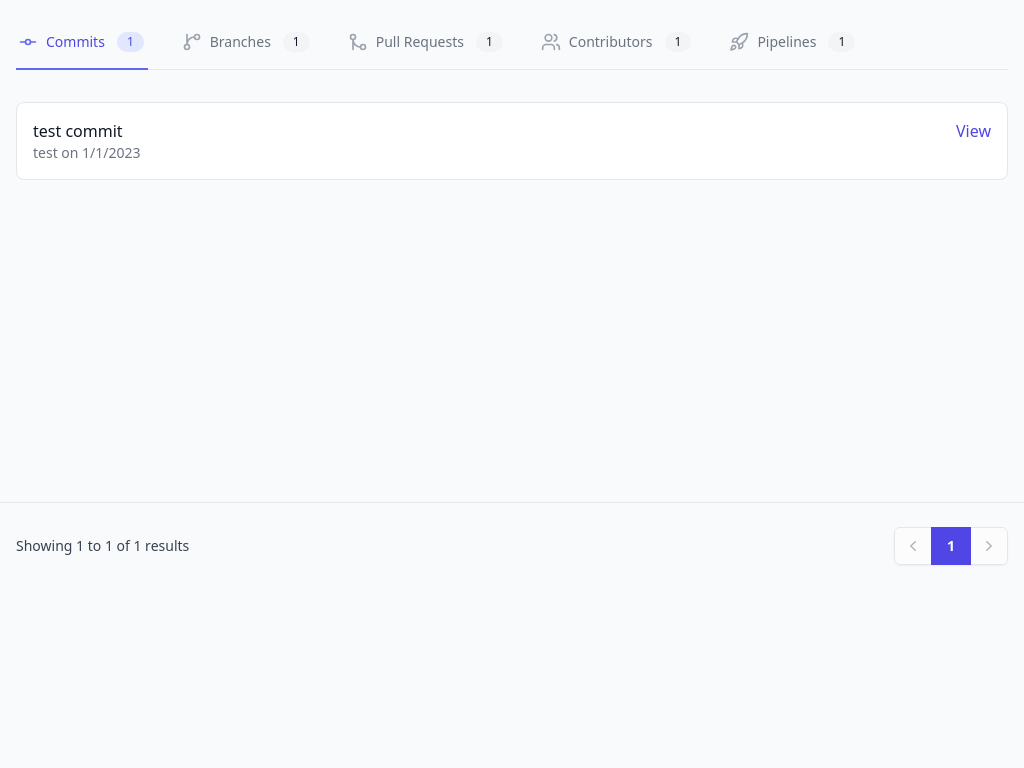
PaginatedDetails › displays correct tab content when switching tabs
expect the text with class "dark" reads "test commit": met, box [33, 120, 123, 142]
// Switch to branches tab
Click the button "Branches 1": (247, 43) [180, 16, 314, 70]
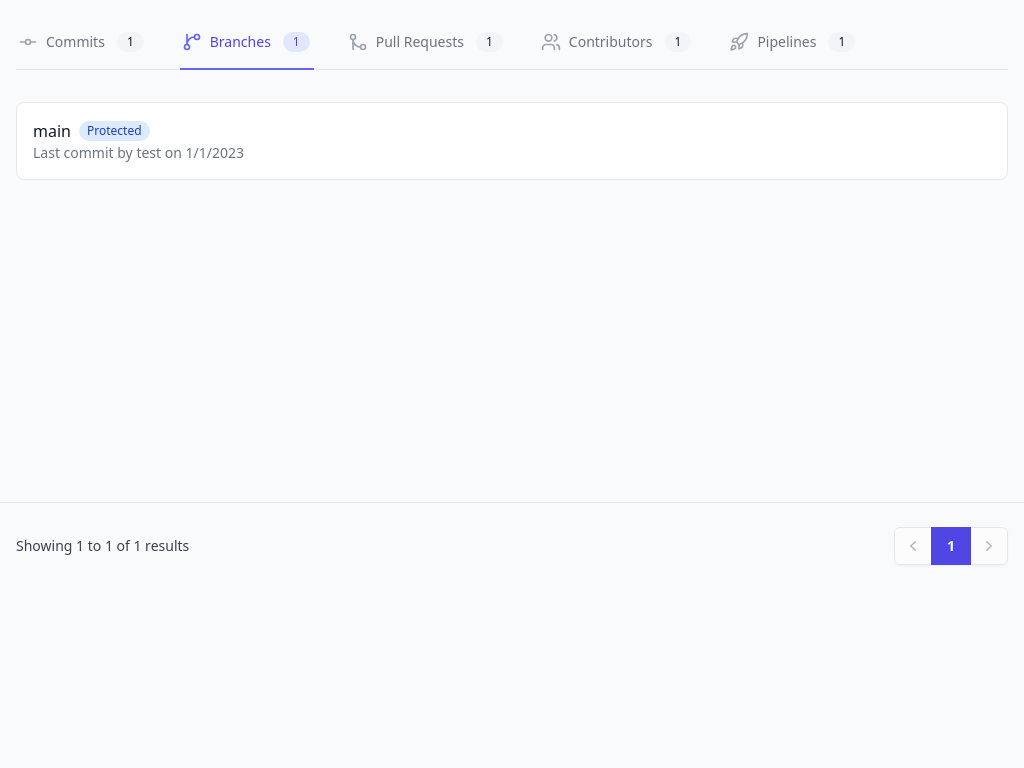
expect the text with class "dark" reads "main": met, box [33, 120, 71, 142]
// Switch to pull requests tab
Click the button "Pull Requests 1": (426, 43) [346, 16, 507, 70]
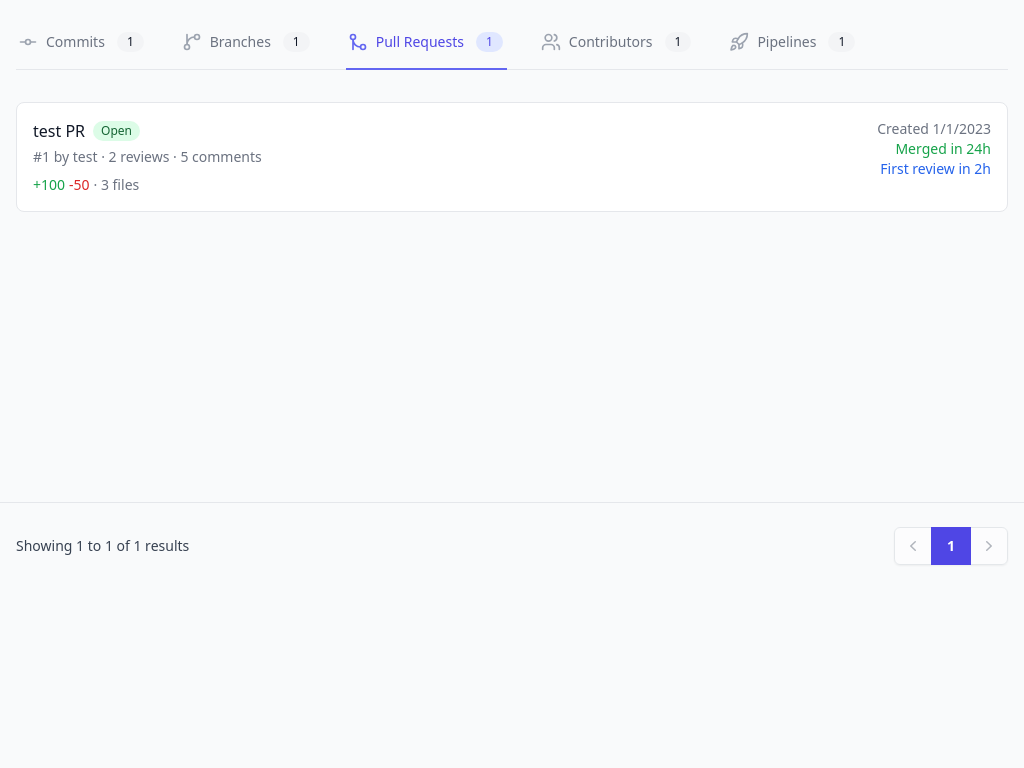
expect the text with class "dark" reads "test PR": met, box [33, 120, 85, 142]
// Switch to contributors tab
Click the button "Contributors 1": (617, 43) [539, 16, 695, 70]
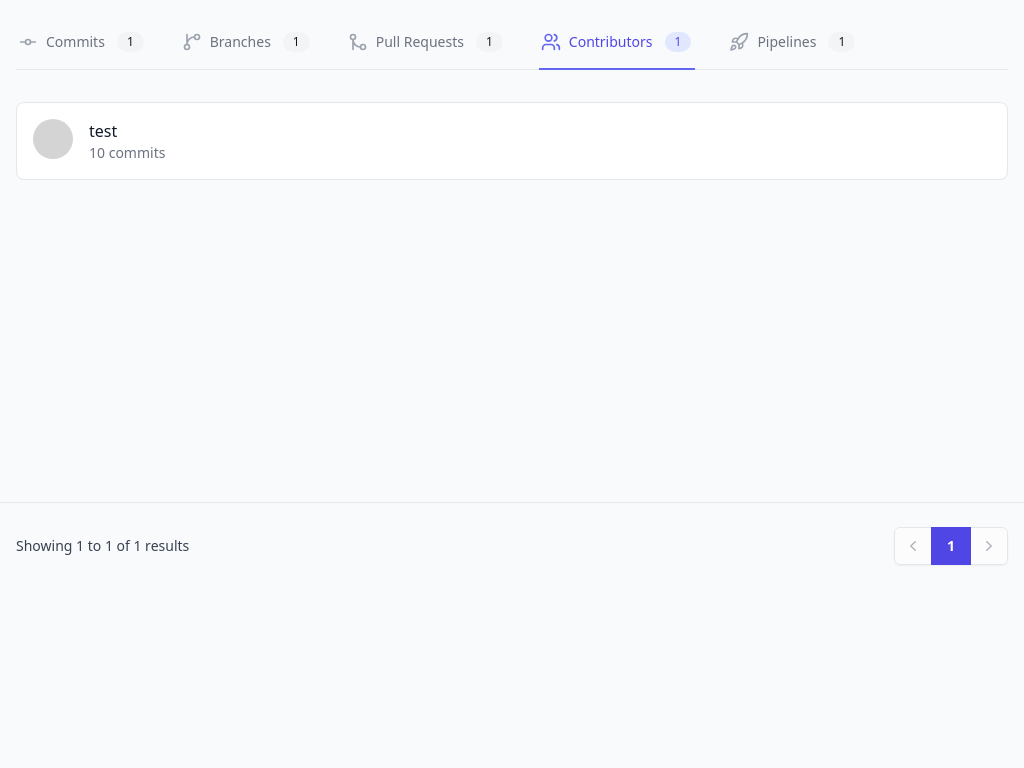
expect the text with class "dark" reads "test": met, box [89, 120, 117, 142]
// Switch to pipelines tab
Click the button "Pipelines 1": (793, 43) [727, 16, 859, 70]
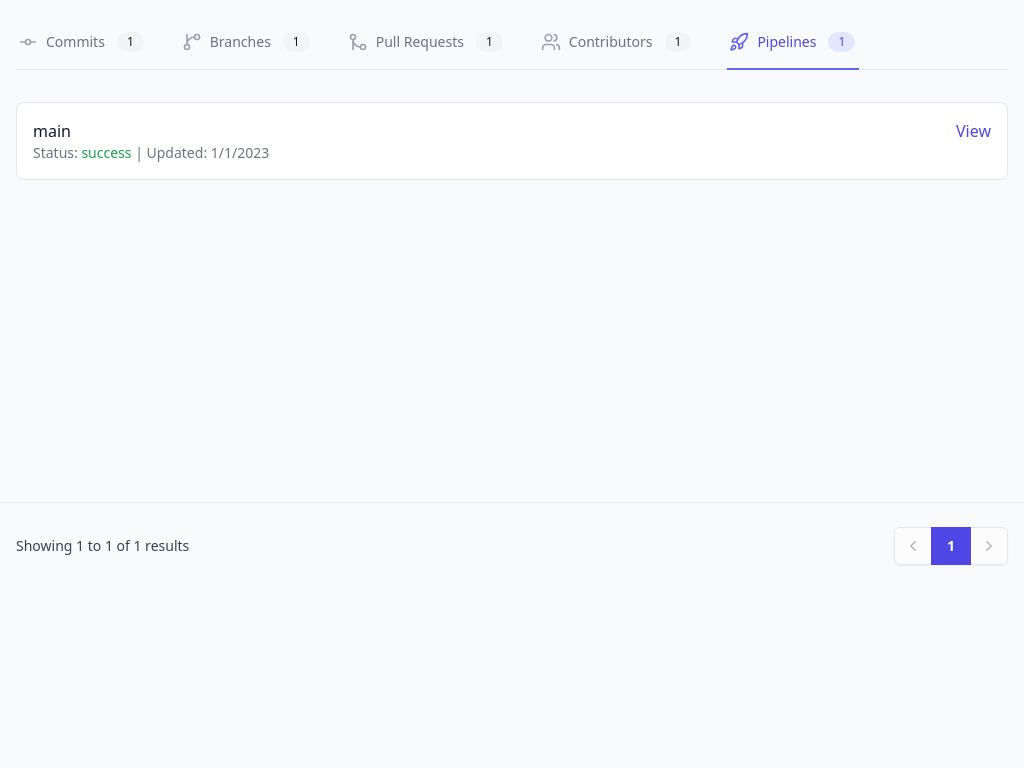
expect the text with class "dark" reads "main": met, box [33, 120, 71, 142]
